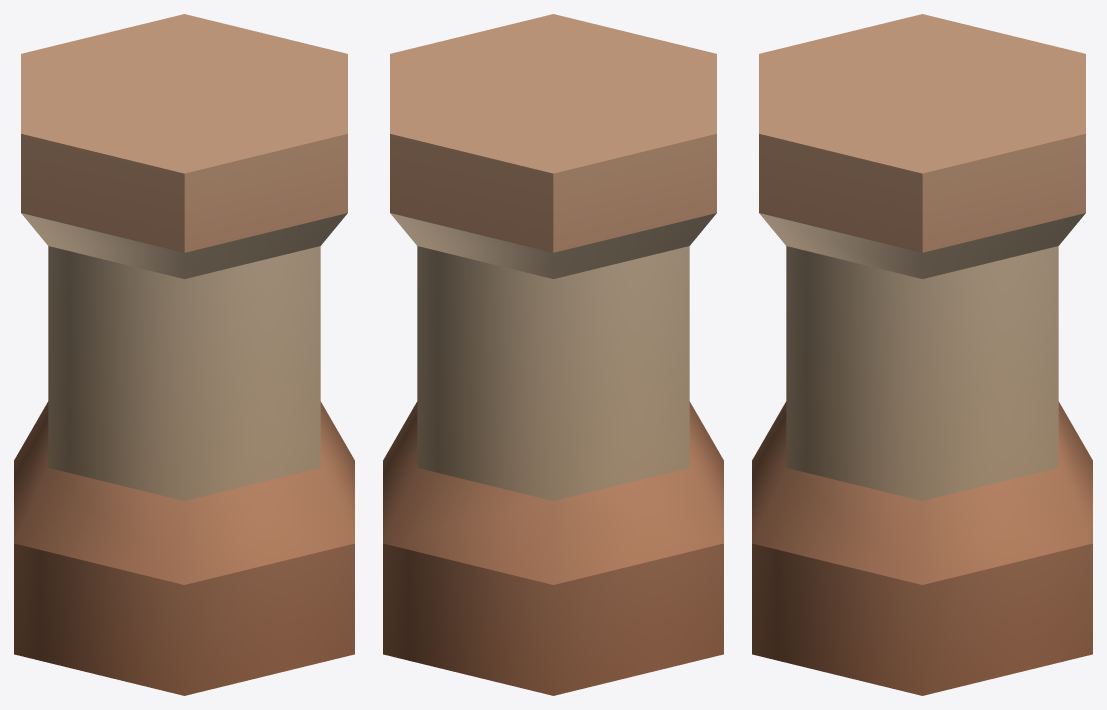
The model's file is castle-tower-hexagon-base.glb.
3 renders of one model, left to right at view 1: azimuth 30°, elevation 25°; view 2: azimuth 150°, elevation 25°; view 3: azimuth 270°, elevation 25°, orthographic.
Visible parts, largest first — view 1: tower-hexagon-base; view 2: tower-hexagon-base; view 3: tower-hexagon-base.
Boxes of the visible parts, <box> form: tower-hexagon-base: <box>14,14,354,695</box>; tower-hexagon-base: <box>383,14,723,695</box>; tower-hexagon-base: <box>752,14,1092,695</box>.
Bounding box in the file's own units: 0.8999 × 1.31 × 0.7794.
